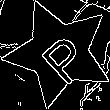P_NW: (28, 22, 90, 84)
